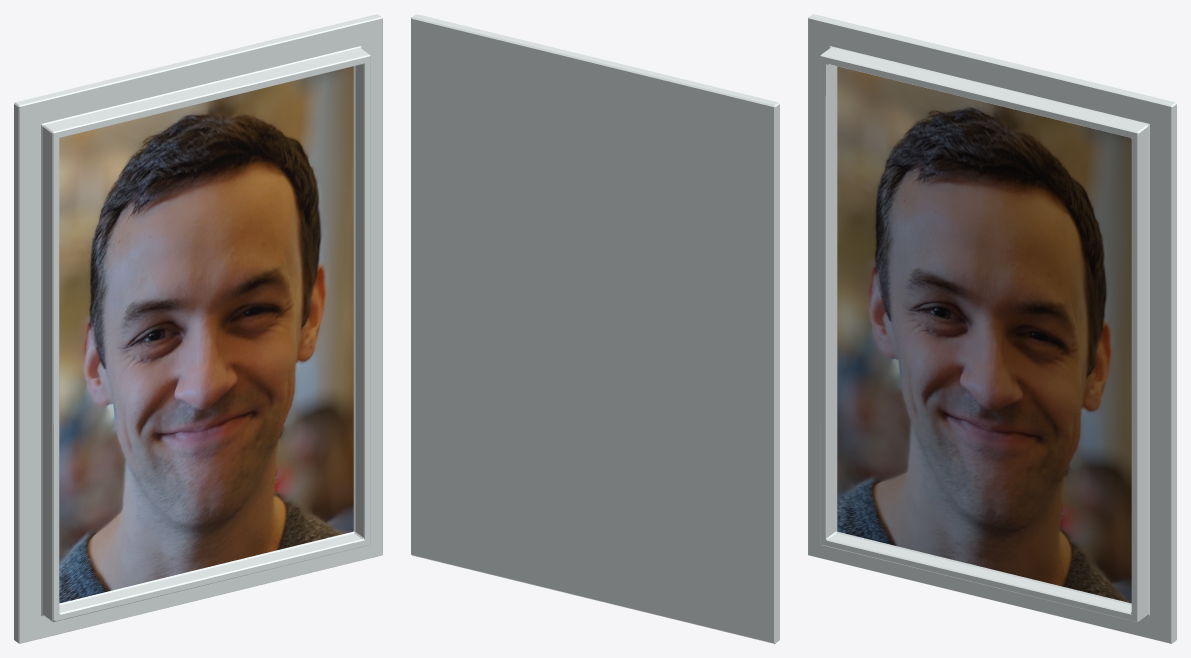
The model's file is aws_PortraitB_01_visual.DAE.
The picture shows the model from 3 angles, left to right: view 1: azimuth 30°, elevation 25°; view 2: azimuth 150°, elevation 25°; view 3: azimuth 330°, elevation 25°; orthographic projection.
Visible parts, largest first — view 1: aws_PortraitB_01_visual; view 2: aws_PortraitB_01_visual; view 3: aws_PortraitB_01_visual.
Part boxes in pixels (<box>): aws_PortraitB_01_visual: <box>14,14,382,643</box>; aws_PortraitB_01_visual: <box>411,14,779,643</box>; aws_PortraitB_01_visual: <box>808,14,1176,643</box>.
Size of the model in its own units: 49.04 by 3.83 by 69.18.
2 materials, 2 textured.
